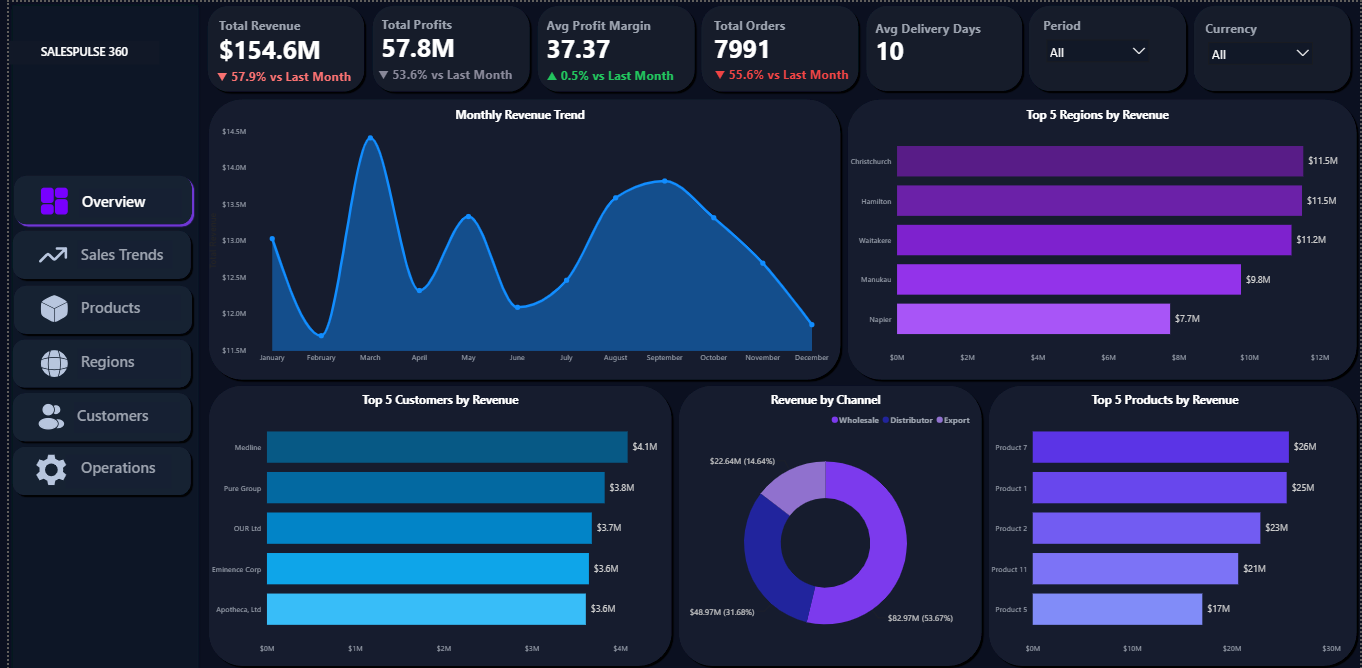

What the dashboard file says about the page in this screenshot:
{"tool":"powerbi","page":{"name":"Overview","canvas":[2185,1080],"ordinal":0},"visuals":[{"type":"shape","box":[1350.5,151.6,834.9,465],"z":0},{"type":"shape","box":[1578.9,614.6,606.5,465],"z":1000},{"type":"shape","box":[1380,0,264,150],"z":2000},{"type":"shape","box":[1077.5,614.6,501.4,465],"z":3000},{"type":"shape","box":[583.1,0,265.7,150.8],"z":4000},{"type":"shape","box":[315.2,0,265,150.8],"z":5000},{"type":"shape","box":[848.7,0,265.7,150.8],"z":6000},{"type":"advanceCardE03760C5AB684758B56AA29F9E6C257B","title":"Avg Profit Margin","fields":{"mainMeasure":["CALENDAR_TABLE.Avg Profit Margin"]},"box":[869,24.8,186,76],"z":7000},{"type":"shape","box":[1114.4,0,265.7,150.8],"z":8000},{"type":"shape","box":[0,0,311.3,1101.8],"z":9000},{"type":"textbox","box":[0,153.2,260.9,88.6],"z":10000},{"type":"shape","box":[2,274.9,300,91],"z":11000},{"type":"textbox","box":[112.8,300.9,166.6,47.3],"z":12000},{"type":"shape","box":[0.1,363.5,300,90],"z":13000},{"type":"shape","box":[1,453.2,300,90.1],"z":14000},{"type":"shape","box":[0,540.6,300,90],"z":15000},{"type":"shape","box":[-1,627.3,300,90.1],"z":16000},{"type":"shape","box":[0,714.5,300,90],"z":17000},{"type":"textbox","box":[111.4,473.4,166.6,42.8],"z":18000},{"type":"textbox","box":[111.4,559.3,166.6,49.5],"z":19000},{"type":"textbox","box":[104.8,647.6,171.1,49.5],"z":20000},{"type":"textbox","box":[91.8,731.8,171.1,54],"z":21000},{"type":"image","box":[49.3,298.2,49.5,49.5],"z":22000},{"type":"image","box":[47.2,384.5,49.5,49.5],"z":23000},{"type":"image","box":[48.3,471.6,49.5,49.5],"z":24000},{"type":"image","box":[48.4,559.3,49.5,49.5],"z":25000},{"type":"image","box":[41.8,647.6,54,49.5],"z":26000},{"type":"image","box":[40.1,731.8,56.3,49.5],"z":27000},{"type":"textbox","box":[110.3,386.3,153.1,45],"z":28000},{"type":"advanceCardE03760C5AB684758B56AA29F9E6C257B","title":"Total Orders","fields":{"mainMeasure":["CALENDAR_TABLE.Total Orders"]},"box":[1140,24,186,76],"z":29000},{"type":"advanceCardE03760C5AB684758B56AA29F9E6C257B","title":"Total Profits","fields":{"mainMeasure":["CALENDAR_TABLE.Total Profit"]},"box":[603.3,22.5,186.9,76.5],"z":30000},{"type":"advanceCardE03760C5AB684758B56AA29F9E6C257B","title":"Avg Delivery Days","fields":{"mainMeasure":["CALENDAR_TABLE.Avg Delivery Days"]},"box":[1400,28,226,72],"z":31000},{"type":"shape","box":[317.4,614.6,760.1,465],"z":32000},{"type":"shape","box":[317.4,151.6,1033.1,465],"z":33000},{"type":"advanceCardE03760C5AB684758B56AA29F9E6C257B","title":"Total Revenue","fields":{"mainMeasure":["CALENDAR_TABLE.Total Revenue"]},"box":[339.9,24.8,186.9,76.5],"z":34000},{"type":"card","fields":{"Values":["CALENDAR_TABLE.Revenue Trend Label"]},"box":[310.7,101.3,267.9,40.5],"z":35000},{"type":"card","fields":{"Values":["CALENDAR_TABLE.Profit Trend Label"]},"box":[571.8,99.1,267.9,40.5],"z":36000},{"type":"card","fields":{"Values":["CALENDAR_TABLE.Orders Trend Label"]},"box":[1116,100,268,40],"z":37000},{"type":"card","fields":{"Values":["CALENDAR_TABLE.Profit Margin Trend Label"]},"box":[839.7,101.3,267,40],"z":38000},{"type":"shape","box":[1644,0,266,150],"z":39000},{"type":"slicer","title":"Period","fields":{"Values":["CALENDAR_TABLE.YEAR","CALENDAR_TABLE.MONTH_NAME"]},"box":[1668,24,186,76],"z":40000},{"type":"shape","box":[1910,0,265,150],"z":41000},{"type":"slicer","title":"Currency","fields":{"Values":["SALES_ANALYTICS_MASTER.CURRENCY_CODE"]},"box":[1932.5,27.5,186,75],"z":42000},{"type":"pageNavigator","box":[0,365.9,299.2,86.9],"z":43000},{"type":"pageNavigator","box":[0,454.9,299.2,86],"z":44000},{"type":"pageNavigator","box":[0,539.8,299.2,86.9],"z":45000},{"type":"pageNavigator","box":[0,713.6,299.2,86.9],"z":46000},{"type":"lineChart","title":"Monthly Revenue Trend","fields":{"Category":["CALENDAR_TABLE.MONTH_NAME"],"Y":["CALENDAR_TABLE.Total Revenue"]},"box":[317.4,169.8,1033.1,438.7],"z":47000},{"type":"donutChart","title":"Revenue by Channel","fields":{"Category":["SALES_ANALYTICS_MASTER.CHANNEL"],"Y":["CALENDAR_TABLE.Total Revenue"]},"box":[1077.5,630.8,501.4,448.8],"z":48000},{"type":"clusteredBarChart","title":"Top 5 Regions by Revenue","fields":{"Y":["CALENDAR_TABLE.Total Revenue"],"Category":["SALES_ANALYTICS_MASTER.CITY"]},"box":[1350.5,169.8,834.9,438.7],"z":49000},{"type":"clusteredBarChart","title":"Top 5 Customers by Revenue","fields":{"Category":["SALES_ANALYTICS_MASTER.CUSTOMER_NAME"],"Y":["CALENDAR_TABLE.Total Revenue"]},"box":[318,630,736,450],"z":50000},{"type":"clusteredBarChart","title":"Top 5 Products by Revenue","fields":{"Y":["CALENDAR_TABLE.Total Revenue"],"Category":["SALES_ANALYTICS_MASTER.PRODUCT_NAME"]},"box":[1578.9,630.8,596.4,448.8],"z":51000},{"type":"pageNavigator","box":[0,626.7,299.2,84.9],"z":52000},{"type":"pageNavigator","box":[0,626.7,299.2,86.9],"z":53000},{"type":"image","box":[62.2,0,201.1,170],"z":54000},{"type":"textbox","box":[222.6,153.2,93.4,69.4],"z":55000}]}

Visuals, with their boxes in screenshot pixels (x1, y1, x2, y2), scaled from the page's 2185x1080 canvas onto the 1362x668 screenshot:
shape: 842:94:1361:381
shape: 984:380:1361:667
shape: 860:0:1025:93
shape: 672:380:984:667
shape: 363:0:529:93
shape: 196:0:362:93
shape: 529:0:695:93
"Avg Profit Margin" advanceCardE03760C5AB684758B56AA29F9E6C257B: 542:15:658:62
shape: 695:0:860:93
shape: 0:0:194:667
textbox: 0:95:163:150
shape: 1:170:188:226
textbox: 70:186:174:215
shape: 0:225:187:280
shape: 1:280:188:336
shape: 0:334:187:390
shape: 0:388:186:444
shape: 0:442:187:498
textbox: 69:293:173:319
textbox: 69:346:173:377
textbox: 65:401:172:431
textbox: 57:453:164:486
image: 31:184:62:215
image: 29:238:60:268
image: 30:292:61:322
image: 30:346:61:377
image: 26:401:60:431
image: 25:453:60:483
textbox: 69:239:164:267
"Total Orders" advanceCardE03760C5AB684758B56AA29F9E6C257B: 711:15:827:62
"Total Profits" advanceCardE03760C5AB684758B56AA29F9E6C257B: 376:14:493:61
"Avg Delivery Days" advanceCardE03760C5AB684758B56AA29F9E6C257B: 873:17:1014:62
shape: 198:380:672:667
shape: 198:94:842:381
"Total Revenue" advanceCardE03760C5AB684758B56AA29F9E6C257B: 212:15:328:63
card - CALENDAR_TABLE.Revenue Trend Label: 194:63:361:88
card - CALENDAR_TABLE.Profit Trend Label: 356:61:523:86
card - CALENDAR_TABLE.Orders Trend Label: 696:62:863:87
card - CALENDAR_TABLE.Profit Margin Trend Label: 523:63:690:87
shape: 1025:0:1191:93
"Period" slicer: 1040:15:1156:62
shape: 1191:0:1356:93
"Currency" slicer: 1205:17:1321:63
pageNavigator: 0:226:187:280
pageNavigator: 0:281:187:335
pageNavigator: 0:334:187:388
pageNavigator: 0:441:187:495
"Monthly Revenue Trend" lineChart: 198:105:842:376
"Revenue by Channel" donutChart: 672:390:984:667
"Top 5 Regions by Revenue" clusteredBarChart: 842:105:1361:376
"Top 5 Customers by Revenue" clusteredBarChart: 198:390:657:667
"Top 5 Products by Revenue" clusteredBarChart: 984:390:1356:667
pageNavigator: 0:388:187:440
pageNavigator: 0:388:187:441
image: 39:0:164:105
textbox: 139:95:197:138
